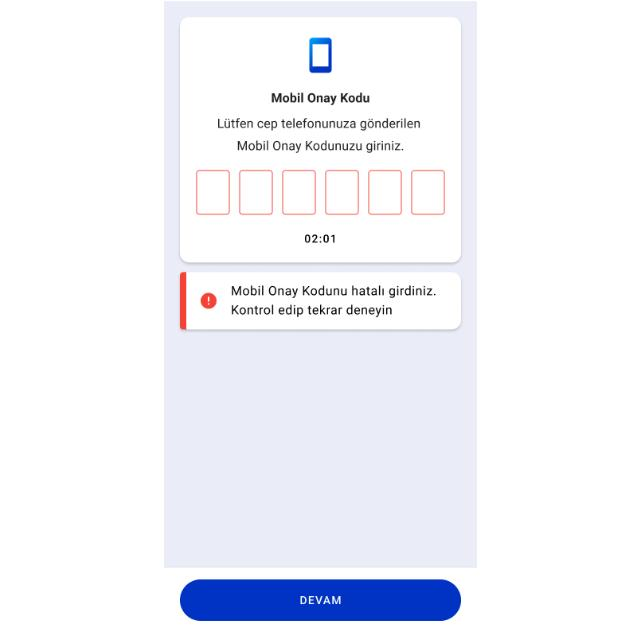QLabel: (228, 284, 437, 318), (215, 116, 421, 132), (235, 140, 405, 154), (268, 90, 370, 106), (298, 593, 342, 605), (303, 232, 335, 244)
QOtp: (190, 166, 448, 218)
VAlert: (178, 270, 462, 332)
VBtn: (178, 580, 467, 622)
VCard: (176, 16, 466, 266)
VFooter: (164, 568, 476, 640)
VIcon: (198, 291, 216, 309)
VImg: (306, 36, 332, 74)
